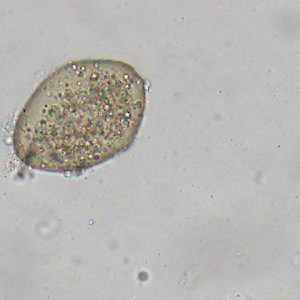Fasciola_hepatica_egg: (10, 58, 148, 176)
